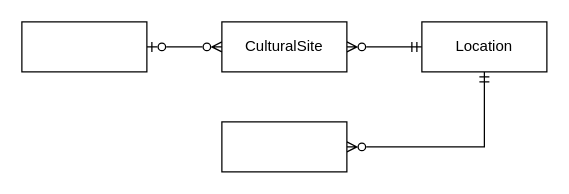
The diagram is 569 pixels wide and 194 high, and some of its shapes have lost their labels. The centre of each missing label's shape, as x and y in pixels:
"Facility" goes at point 284,146.
"HeritageCategory" goes at point 84,46.
